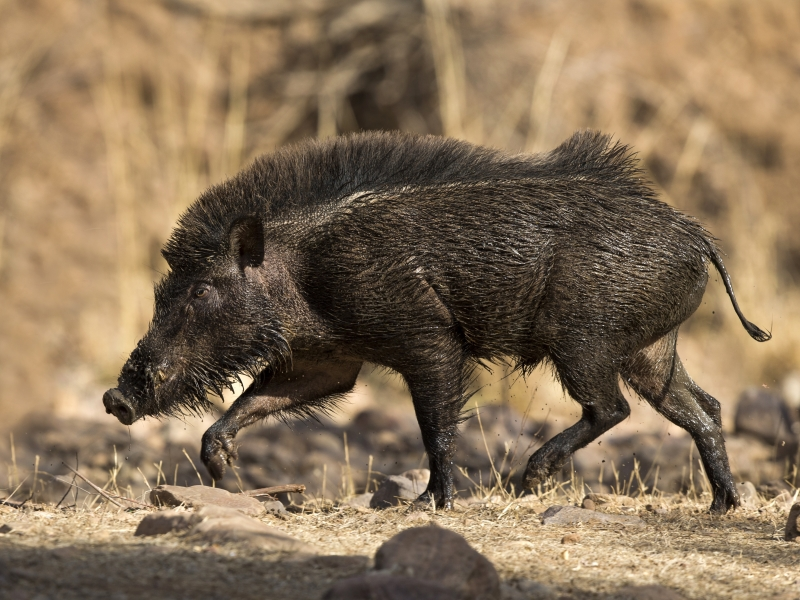wild boar: (95, 119, 779, 518)
